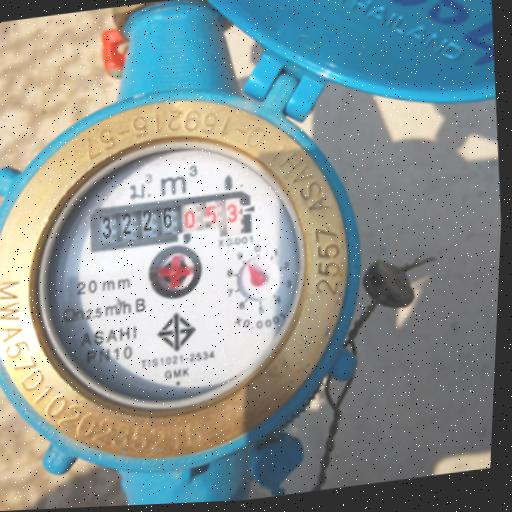0: (180, 203, 200, 233)
2: (118, 210, 136, 242), (139, 209, 157, 240)
3: (223, 196, 244, 237), (98, 214, 116, 246)
5: (202, 200, 220, 231)
6: (158, 206, 176, 237)
border_water_meter_number: (87, 188, 254, 255)
